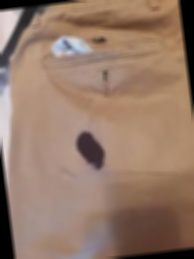ink: (73, 127, 107, 170)
